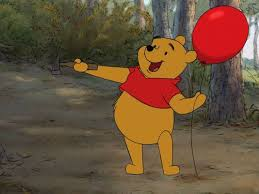Winnie: (129, 32, 189, 108)
